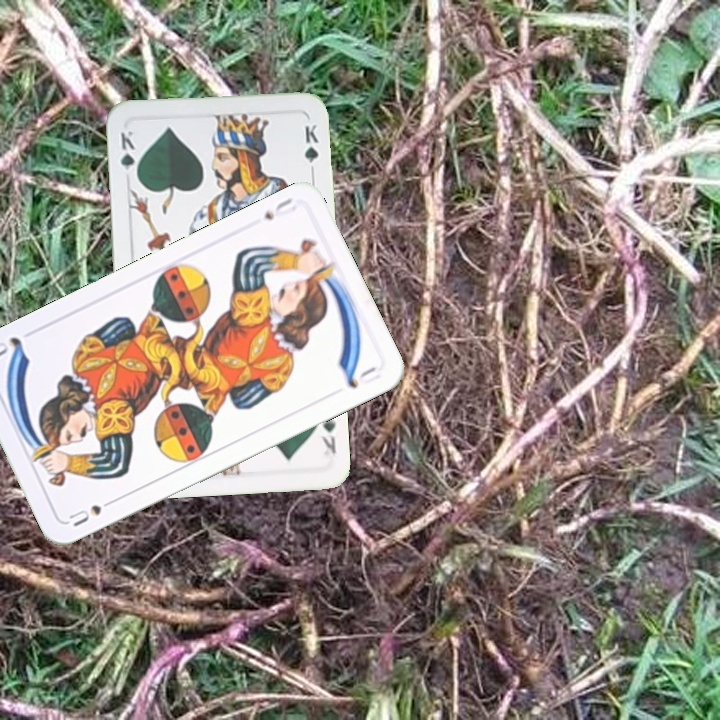GK: (116, 127, 140, 184), (317, 411, 338, 458)
SU: (64, 494, 120, 530), (259, 193, 300, 223)
